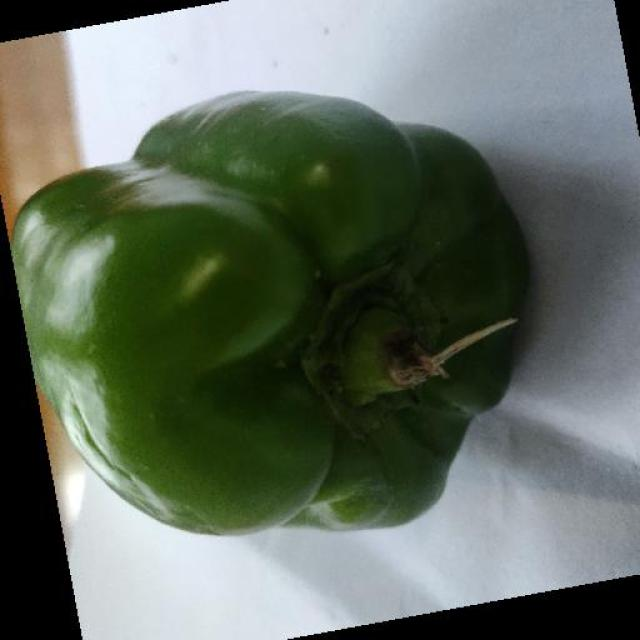Fresh_Capsicum: (17, 84, 551, 535)
